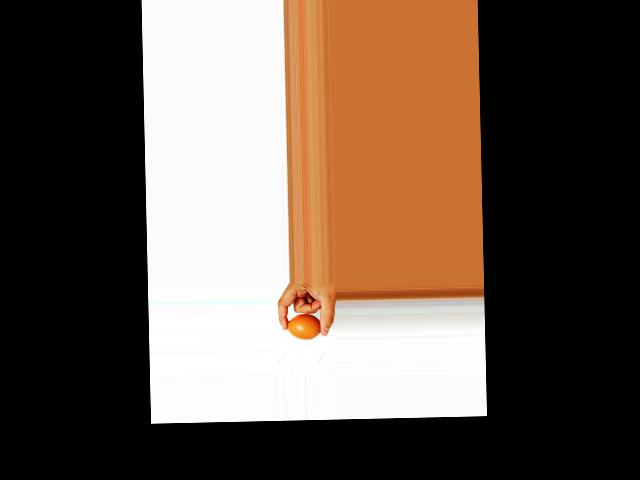egg: (286, 313, 321, 340)
